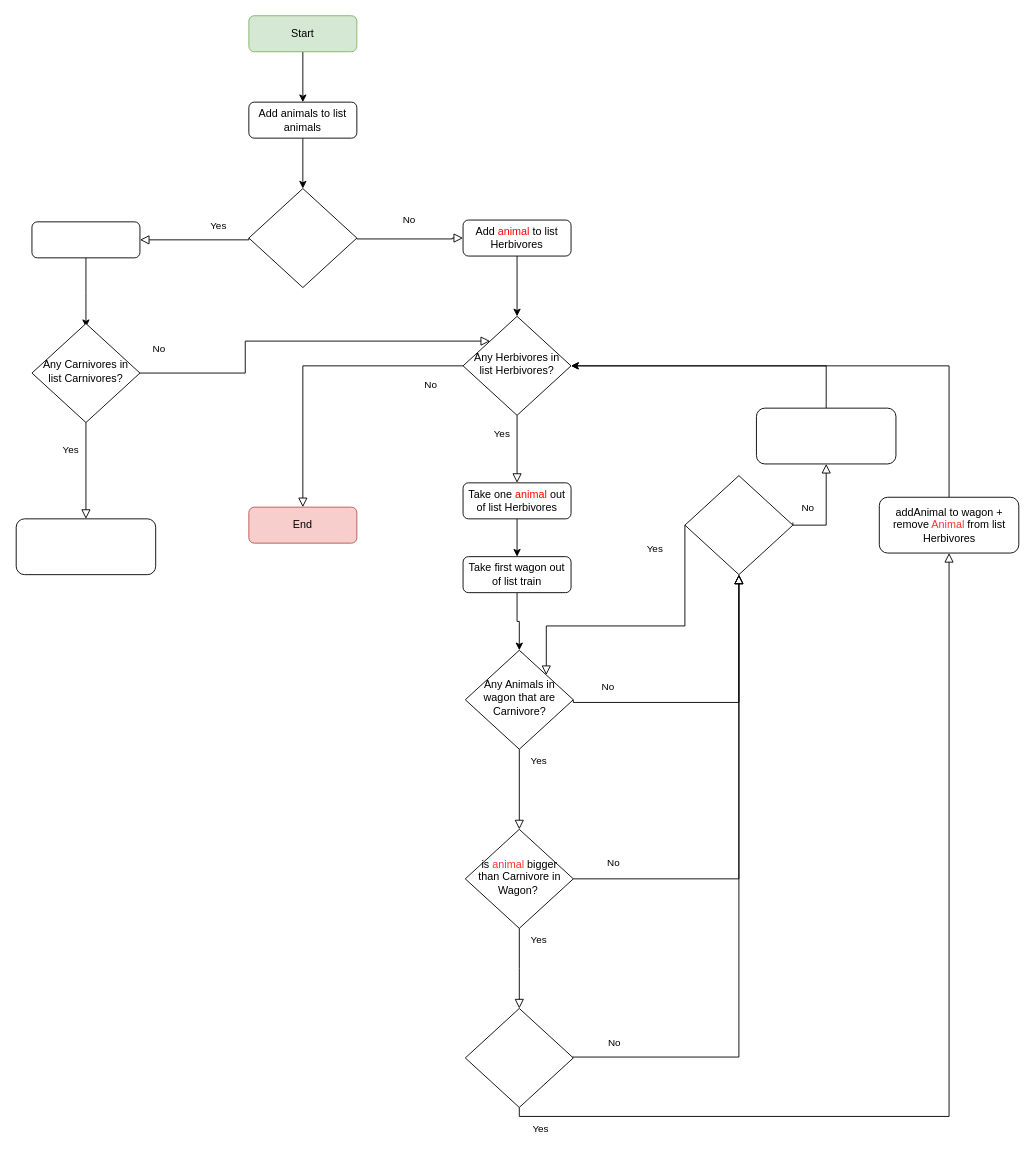
The diagram is 1034 pixels wide and 1150 high, and some of its shapes have lost their labels. The box of each missing label's shape, as (x1, y1, x2, y2) in pixels:
Add animal to list Carnivores: (31, 221, 140, 258)
Does wagon have enough space for Animal ?: (464, 1008, 573, 1107)
Is animal in list animals a carnivore?: (248, 188, 357, 288)
Is there an next wagon in list train?: (684, 475, 793, 575)
New Wagon + addAnimal to wagon + remove Animal from list Carnivores: (15, 518, 156, 575)
New Wagon + addAnimal to wagon + remove Animal from list Herbivores: (756, 407, 896, 464)
